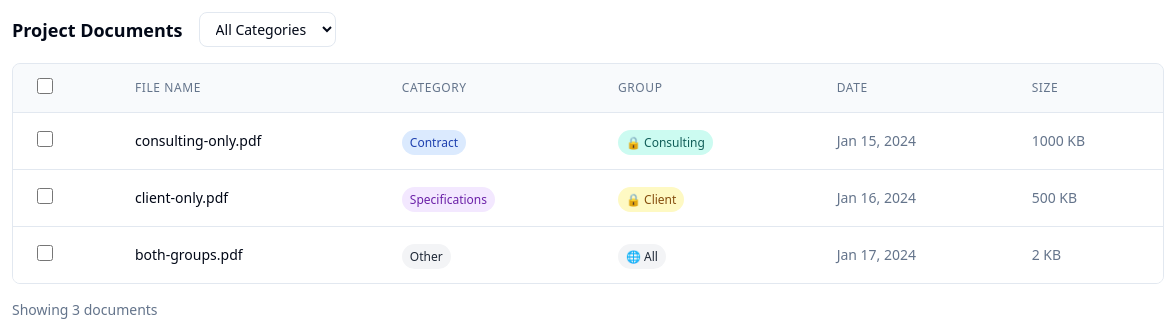
Test: DocumentList › Document Visibility Filtering › should combine category and visibility filters correctly
The image size is (1164, 336).
Filter by category
Select "Contracts" in the dropdown: (267, 30) [199,12,336,47]
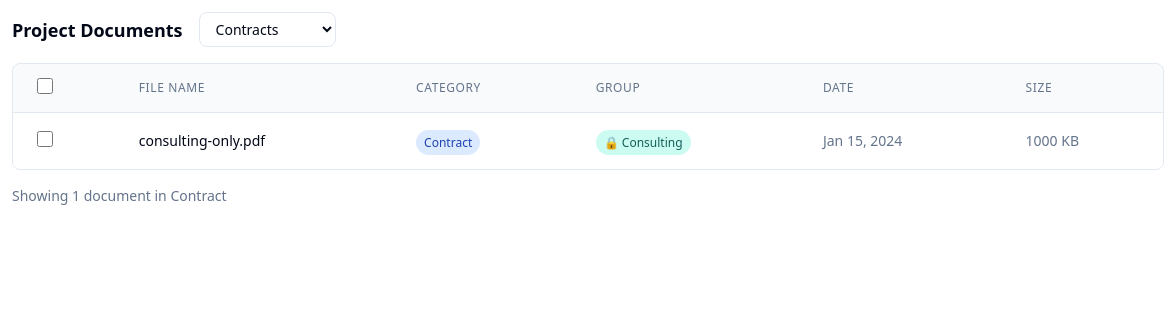
Expected: the text "consulting-only.pdf" is shown, [139,131,265,151]
Expected: the text "both-groups.pdf" is gone
Expected: the text "client-only.pdf" is gone
